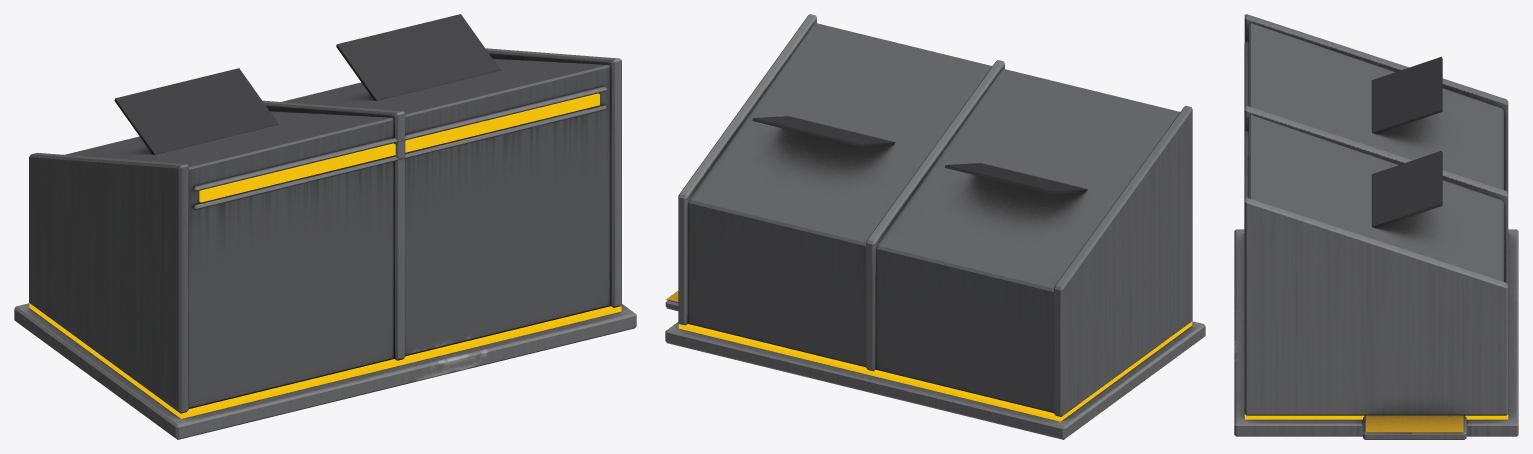
Rendered from nodexeus-set-mod-shed.glb.
3 views of the same model, side by side, from view 1: azimuth 30°, elevation 25°; view 2: azimuth 150°, elevation 25°; view 3: azimuth 270°, elevation 25° (orthographic). The views are drawn at different scales.
Visible parts, largest first — view 1: set-mod-shed; view 2: set-mod-shed; view 3: set-mod-shed.
Boxes of the visible parts, bbox=[...] form: set-mod-shed: bbox=[14, 14, 636, 439]; set-mod-shed: bbox=[665, 14, 1205, 439]; set-mod-shed: bbox=[1234, 14, 1518, 439].
Size of the model in its own units: 3.32 by 1.73 by 1.92.
1 material, 1 textured.
